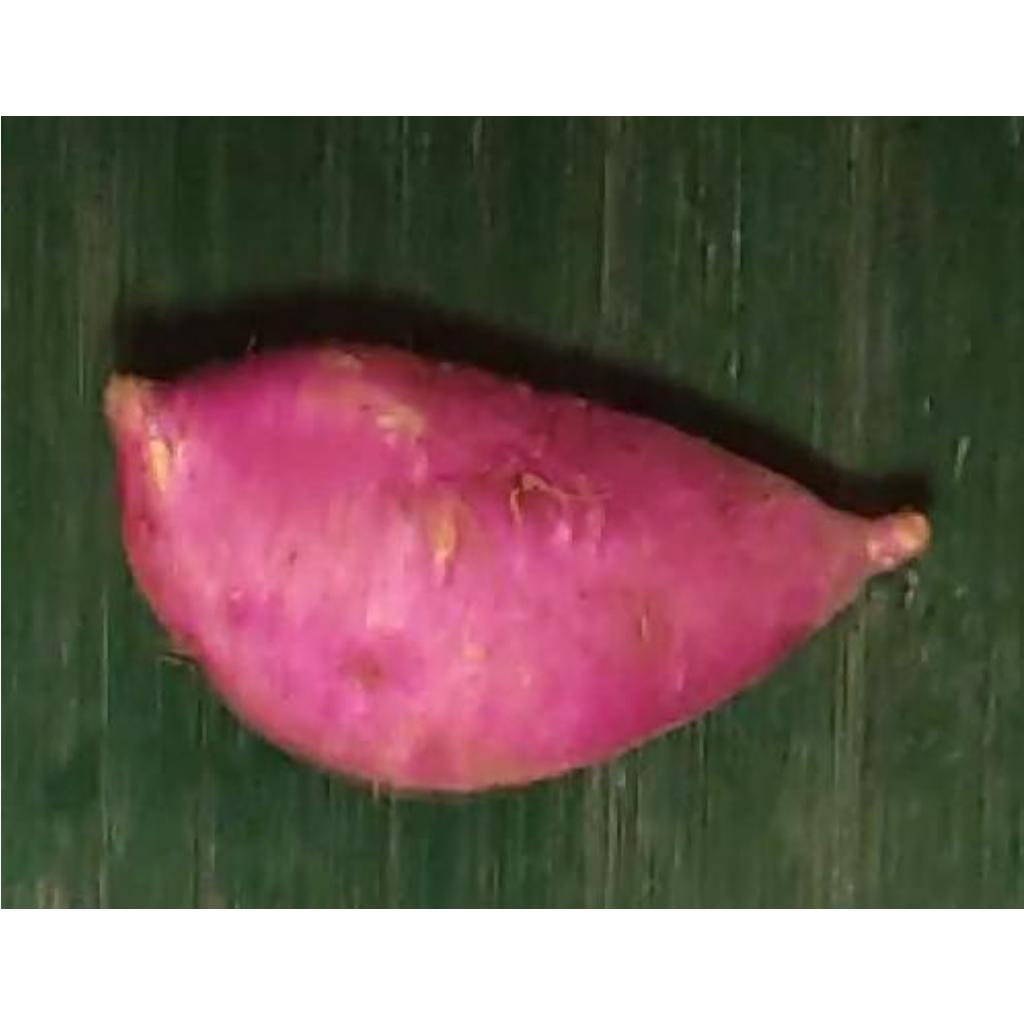Sweet Potato: (101, 339, 929, 794)
